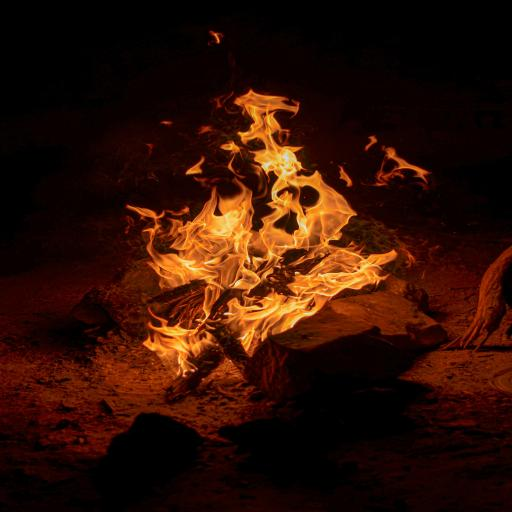campfire: (94, 88, 473, 424)
